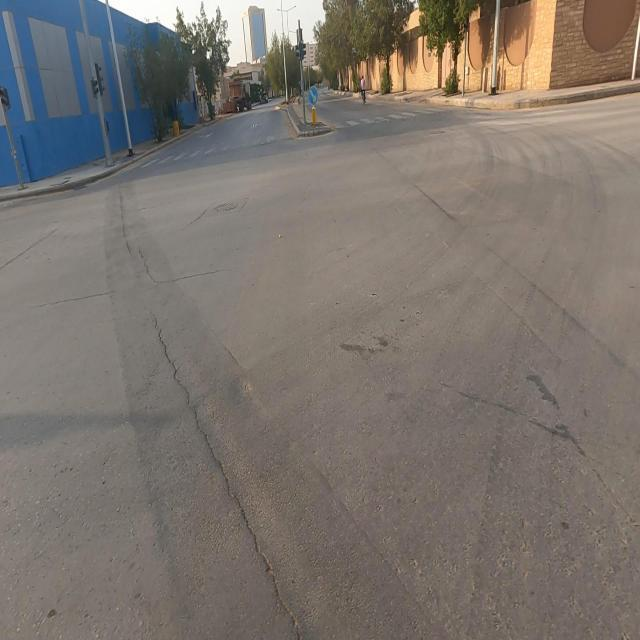debris: (293, 55, 334, 136)
